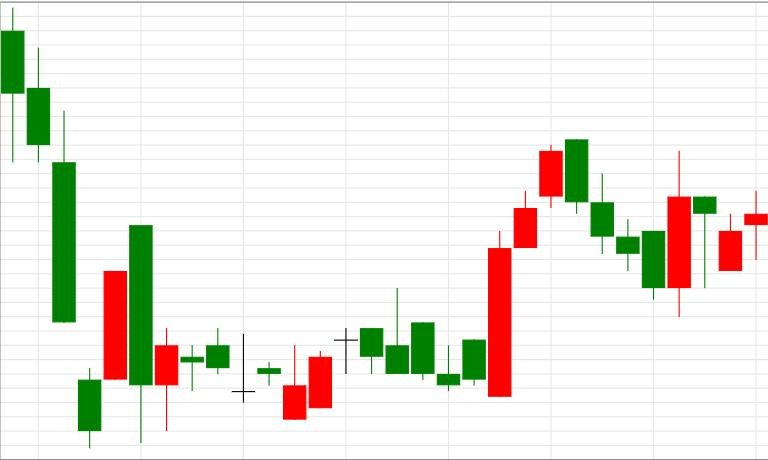bearish_engulfing_fall: (488, 140, 588, 397)
bullish_engulfing_rise: (333, 231, 511, 398), (566, 139, 691, 318)
